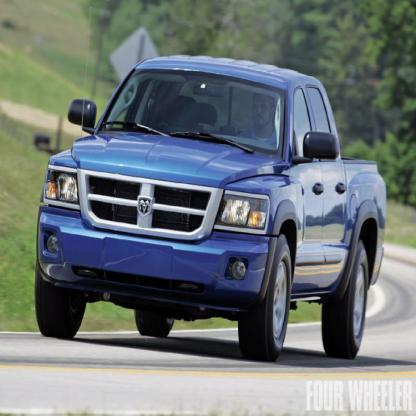Vehicle: (32, 53, 394, 370)
